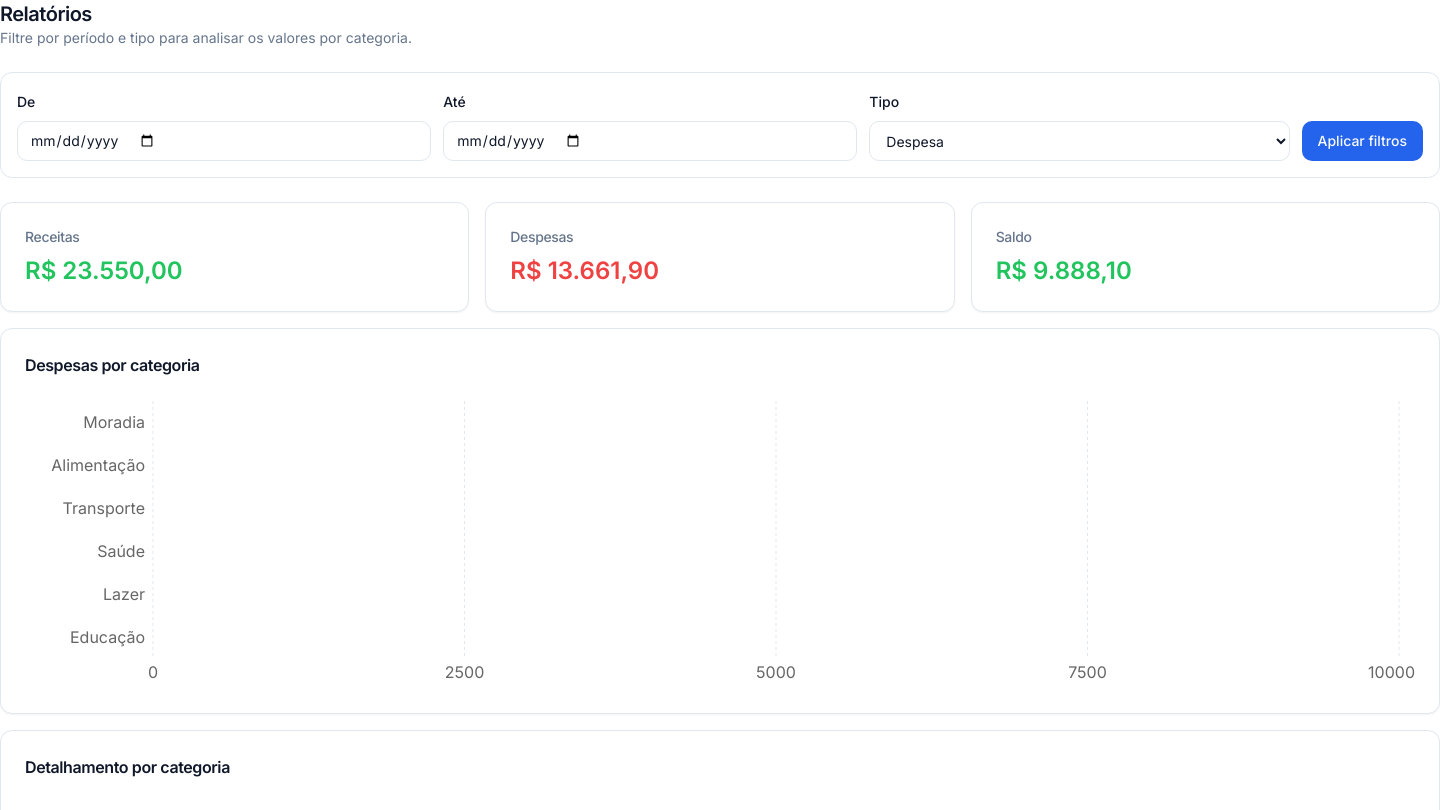
Scenario: ReportsPage (AC-001, AC-007) › aplica o filtro de tipo receitas
The width and height of the screenshot is (1440, 810).
Expected: the text "Despesas por categoria" is shown, [25,355,200,375]
Select "Receita" in the dropdown labelled "Tipo": point(1079, 141) [869,121,1290,161]
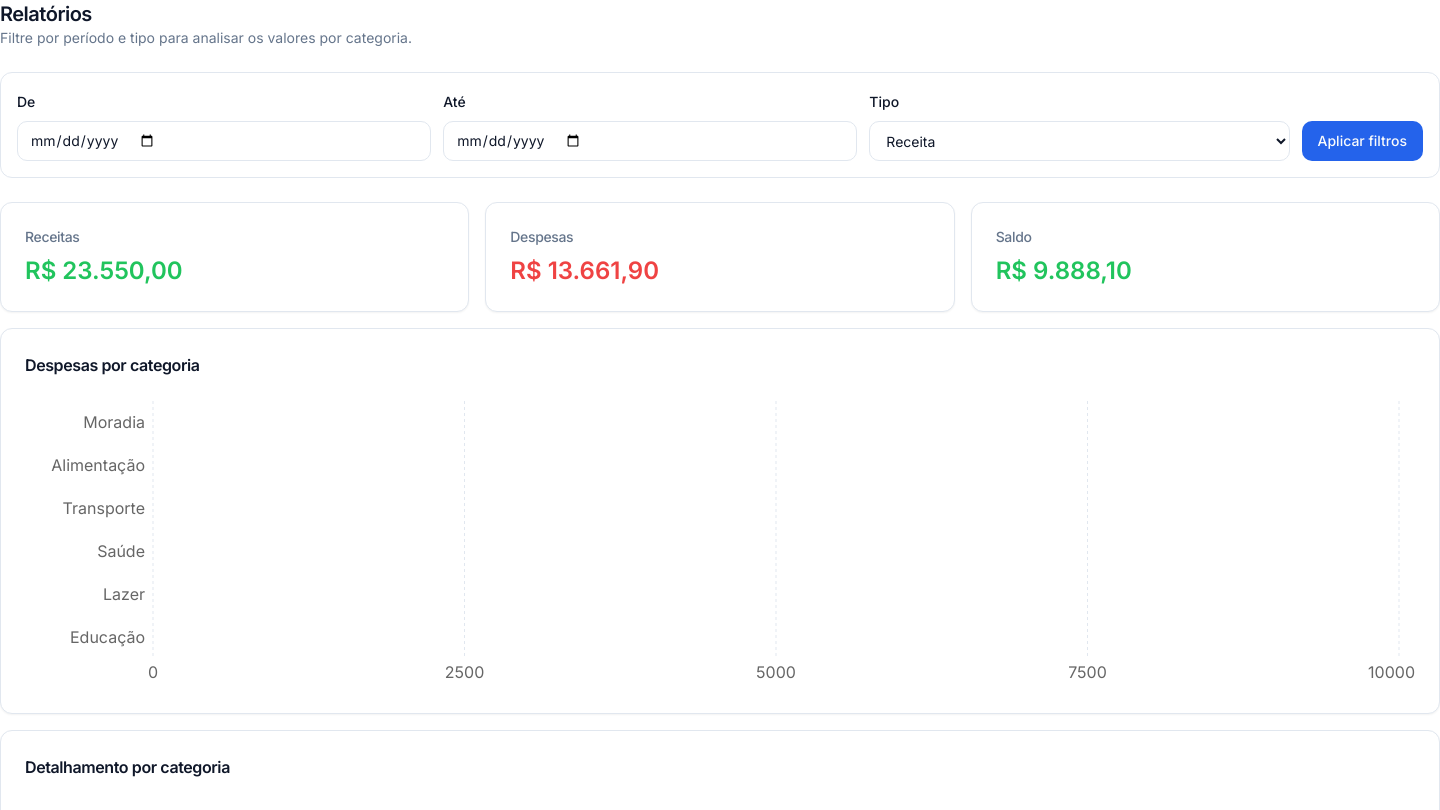
Click the button "Aplicar filtros": point(1362, 141) [1302,121,1423,161]
(page scrolled)
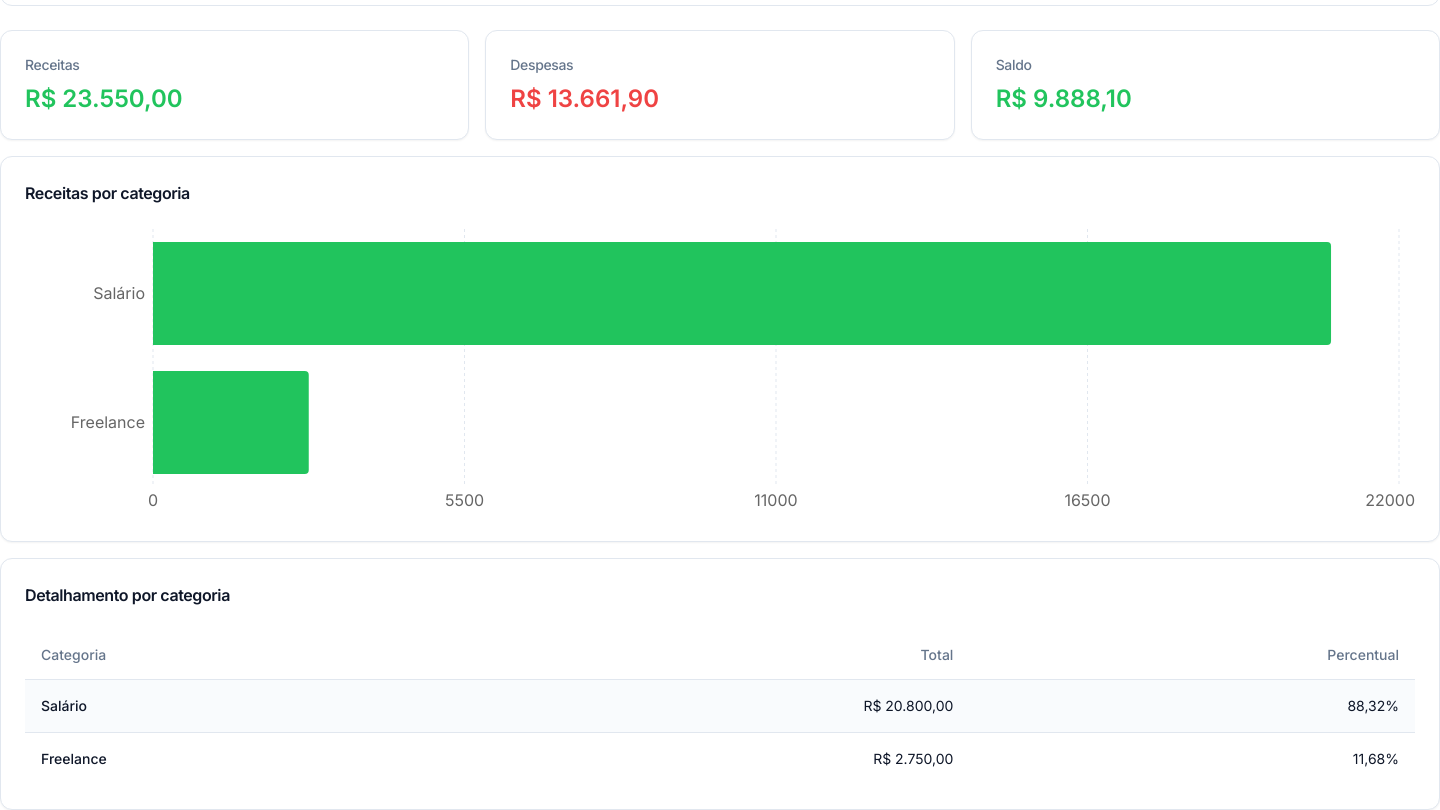
Result: the text "Receitas por categoria" is shown at [25,183,190,203]
Result: the text "Salário" is shown at [25,679,445,732]
